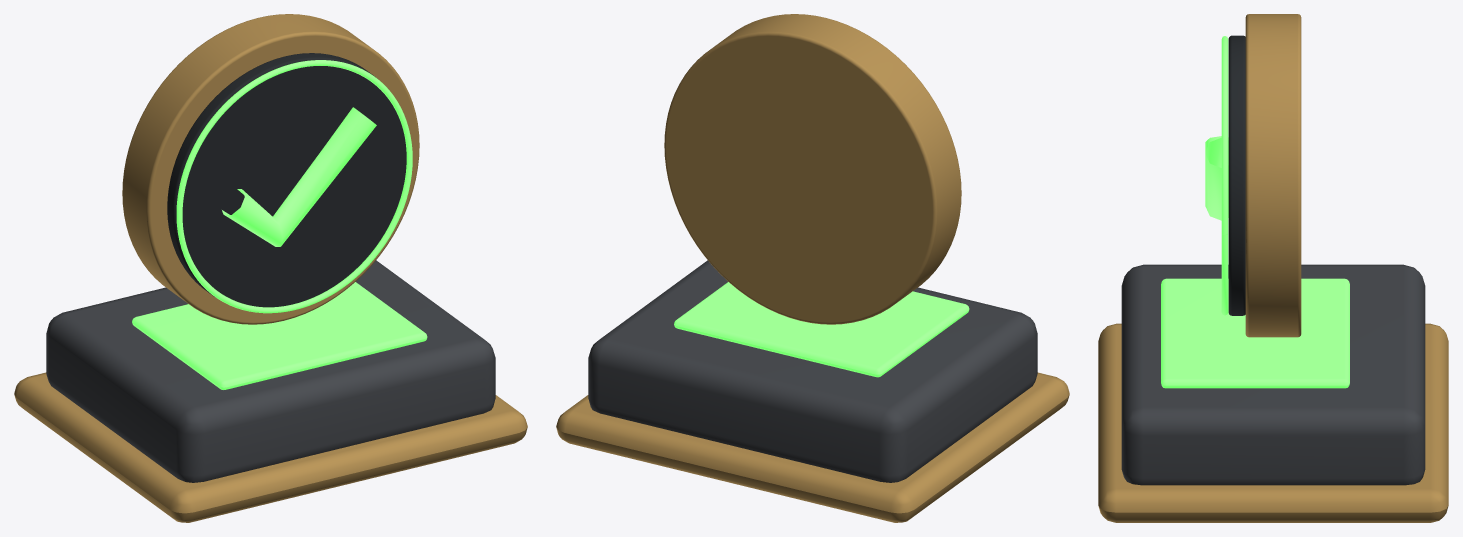
Rendered from estacoes_medalhao_aprovado.glb.
3 views of the same model, side by side, from view 1: azimuth 30°, elevation 25°; view 2: azimuth 150°, elevation 25°; view 3: azimuth 270°, elevation 25° (orthographic). The views are drawn at different scales.
Parts seen in each view (by area): view 1: medalhao_aprovado; view 2: medalhao_aprovado; view 3: medalhao_aprovado.
Part boxes in pixels (bbox=[...]): medalhao_aprovado: bbox=[14, 14, 527, 522]; medalhao_aprovado: bbox=[556, 14, 1069, 522]; medalhao_aprovado: bbox=[1098, 14, 1448, 522].
Bounding box in the file's own units: 0.235 × 0.252 × 0.195.
